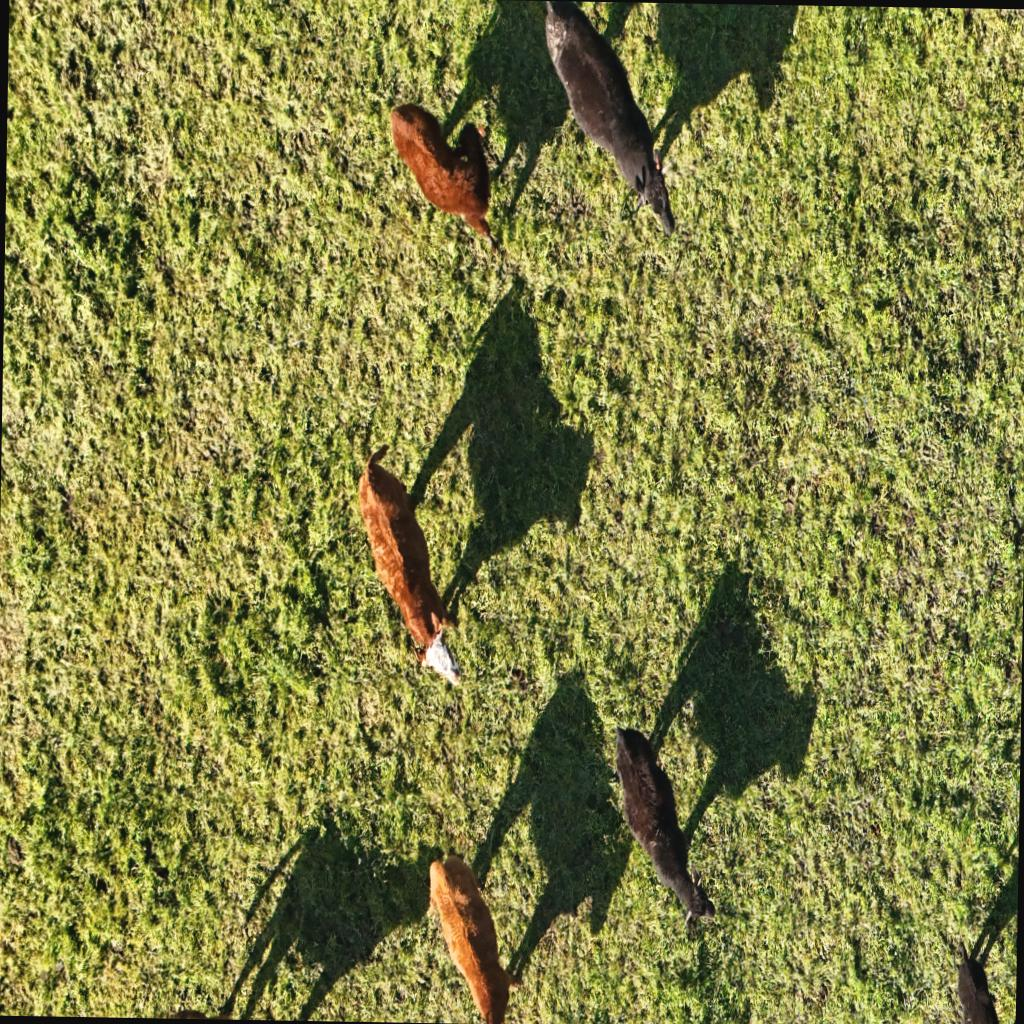cow: (538, 0, 682, 240), (356, 444, 466, 686), (374, 851, 526, 1024), (384, 93, 505, 265), (615, 725, 717, 926)
